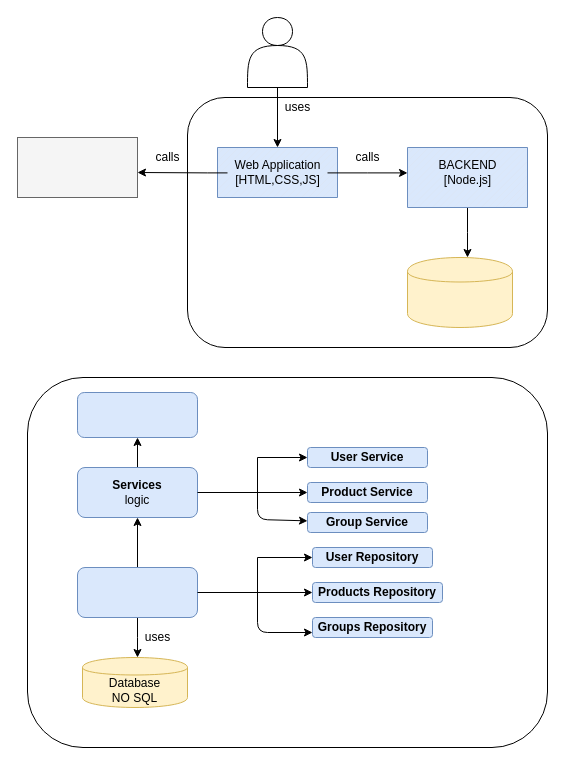
The diagram is 565 pixels wide and 765 high, and some of its shapes have lost their labels. The centre of each missing label's shape, as x and y in pixels:
"Controller routes" belongs at point (137, 415).
"Database MongoDB Schema" belongs at point (459, 292).
"Google Maps API (for map insertion)" belongs at point (77, 167).
"Repositories database access" belongs at point (137, 592).
"USER" belongs at point (277, 52).
